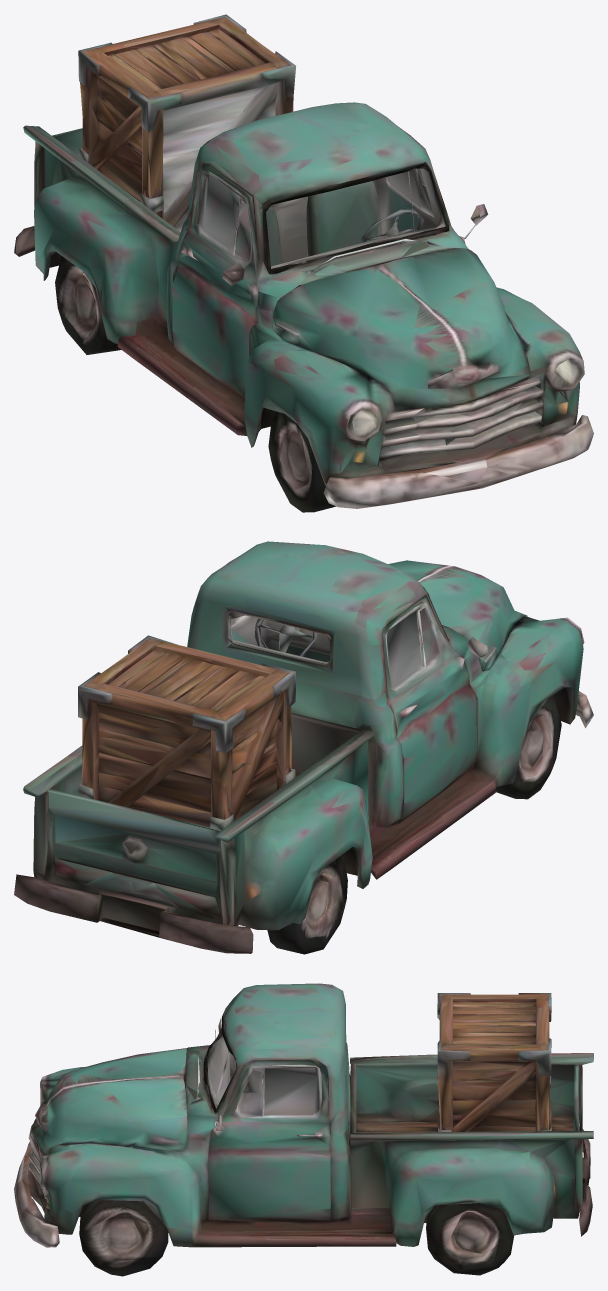
The model's file is prop_mile_car.glb.
3 renders of one model, top to bottom at view 1: azimuth 30°, elevation 25°; view 2: azimuth 150°, elevation 25°; view 3: azimuth 270°, elevation 25°, orthographic. The views are drawn at different scales.
Visible parts, largest first — view 1: tripo_node_29db54fd-ef54-4f9e-8f9b-d1f2f8c16325; view 2: tripo_node_29db54fd-ef54-4f9e-8f9b-d1f2f8c16325; view 3: tripo_node_29db54fd-ef54-4f9e-8f9b-d1f2f8c16325.
Boxes of the visible parts, x1,y1,x2,y2 form: tripo_node_29db54fd-ef54-4f9e-8f9b-d1f2f8c16325: [14, 14, 593, 512]; tripo_node_29db54fd-ef54-4f9e-8f9b-d1f2f8c16325: [14, 541, 593, 954]; tripo_node_29db54fd-ef54-4f9e-8f9b-d1f2f8c16325: [14, 983, 593, 1276].
Size of the model in its own units: 0.4261 by 0.4153 by 0.9803.
1 material, 1 textured.
